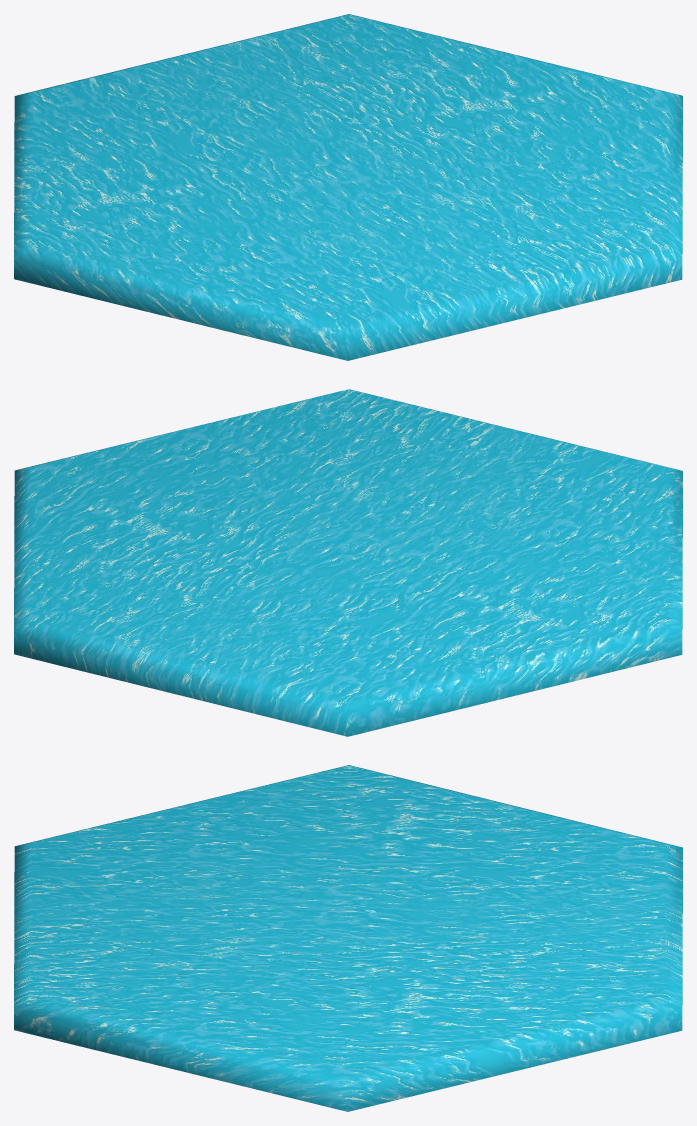
Rendered from simplehex.fbx.
3 renders of one model, top to bottom at view 1: azimuth 30°, elevation 25°; view 2: azimuth 150°, elevation 25°; view 3: azimuth 270°, elevation 25°, orthographic.
Visible parts, largest first — view 1: Hexa; view 2: Hexa; view 3: Hexa.
Part boxes in pixels (x1,y1,x2,y2): Hexa: (14,14,682,360); Hexa: (14,389,682,736); Hexa: (14,765,682,1111).
Bounding box in the file's own units: 24.41 × 1.01 × 21.16.
1 material, 1 textured.
